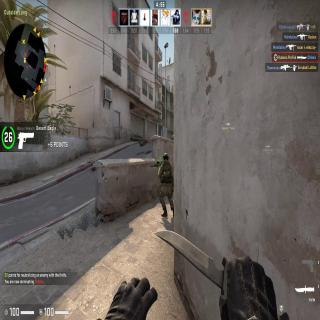CT-Body: (158, 150, 174, 217)
CT-Head: (163, 152, 168, 162)
